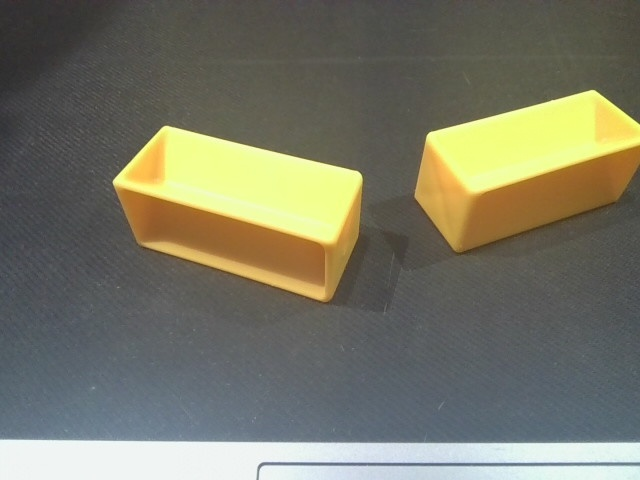YellowSample: (109, 121, 375, 307), (407, 87, 640, 253)
